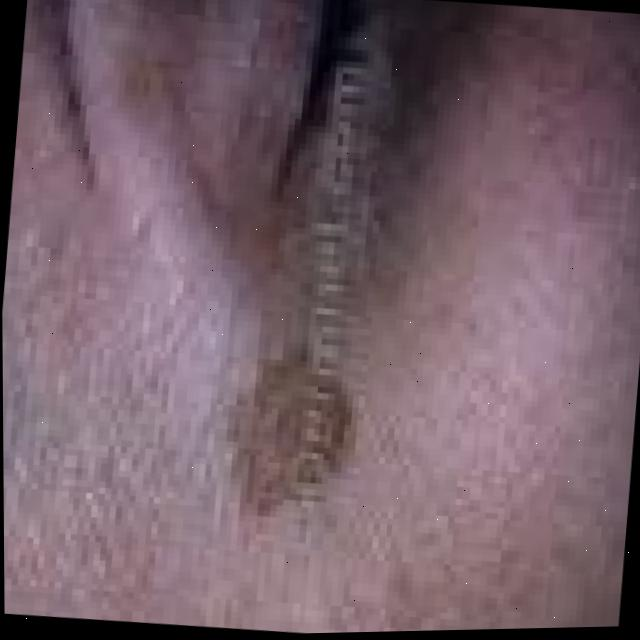Melasma: (238, 348, 373, 501)
